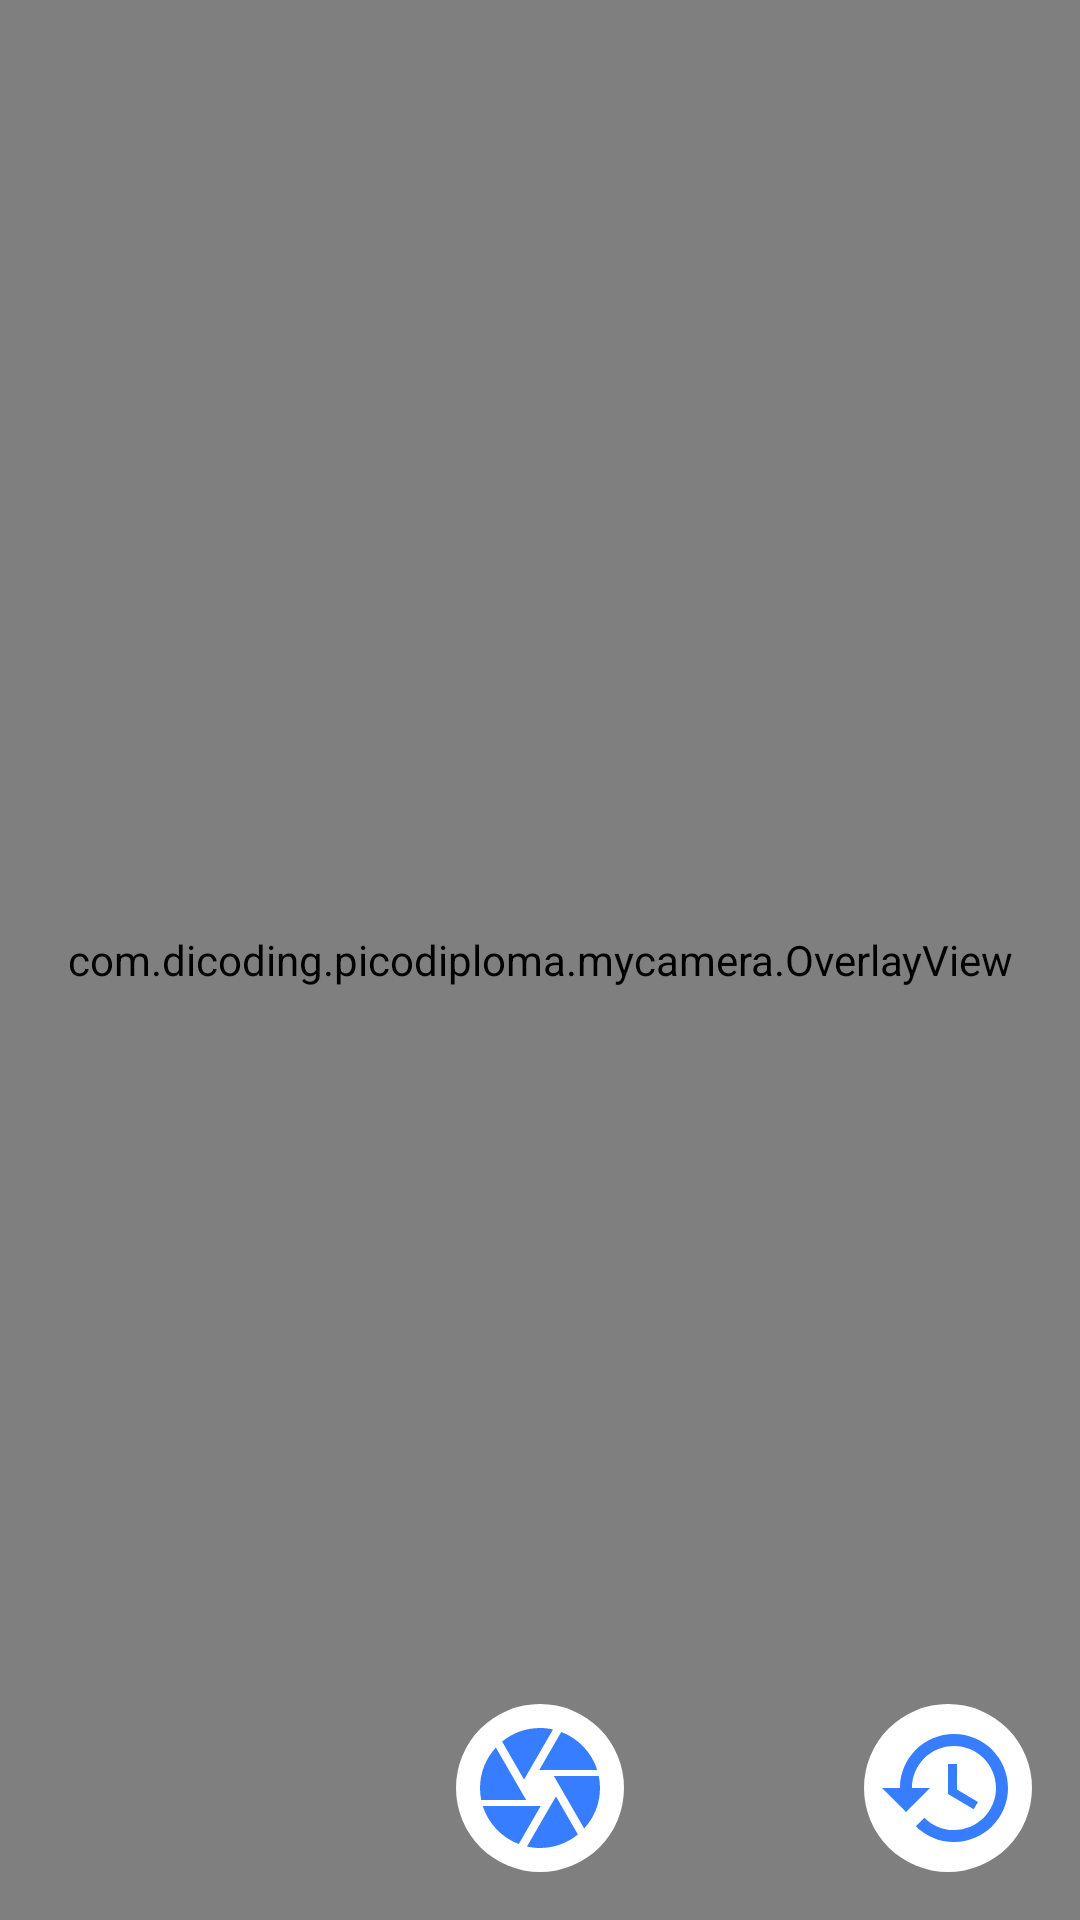

Icons on this 1080x1920 Android screen, each with its box as (x1, y1, x2, y2):
View History: (864, 1704, 1032, 1872)
